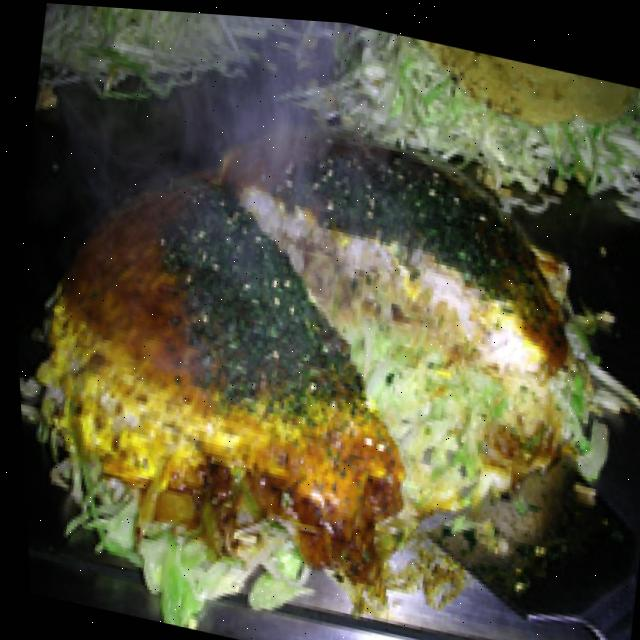蛋糕甜品: (2, 39, 640, 640)
